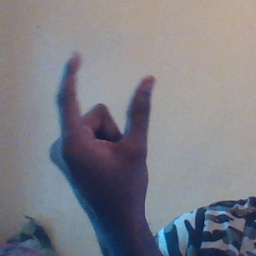U: (42, 49, 162, 205)
